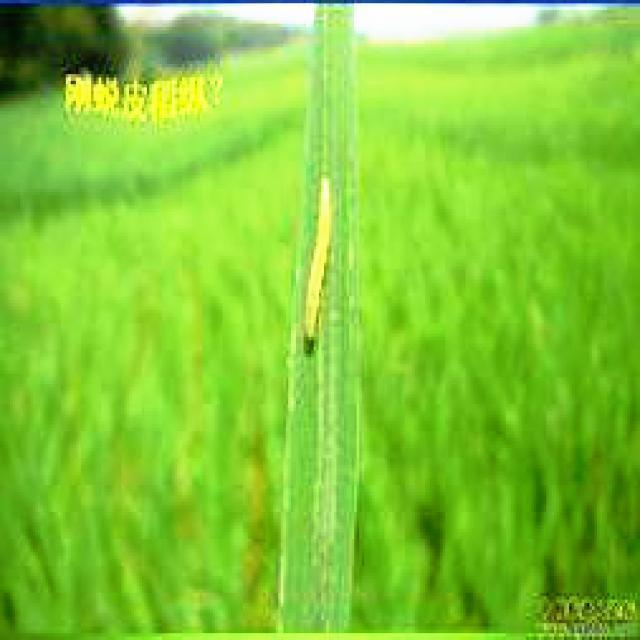leaf-folder: (292, 166, 354, 366)
